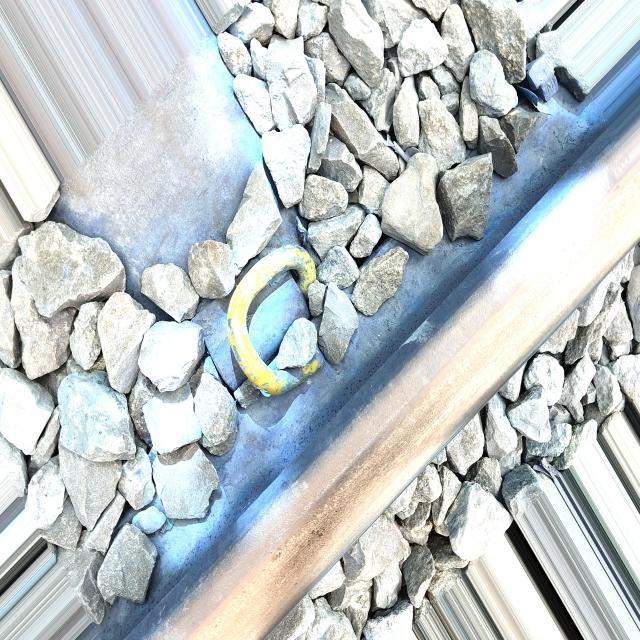Good Fasteners: (194, 245, 324, 418)
